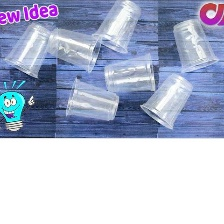glass: (137, 70, 197, 133), (0, 19, 56, 80), (43, 25, 107, 75), (89, 0, 144, 54), (169, 16, 221, 73), (63, 74, 121, 125), (101, 50, 160, 97)
